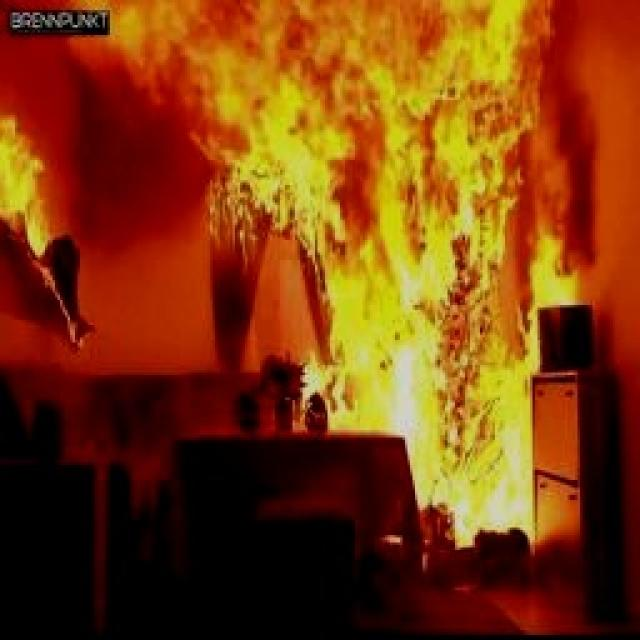fire: (65, 2, 575, 522)
